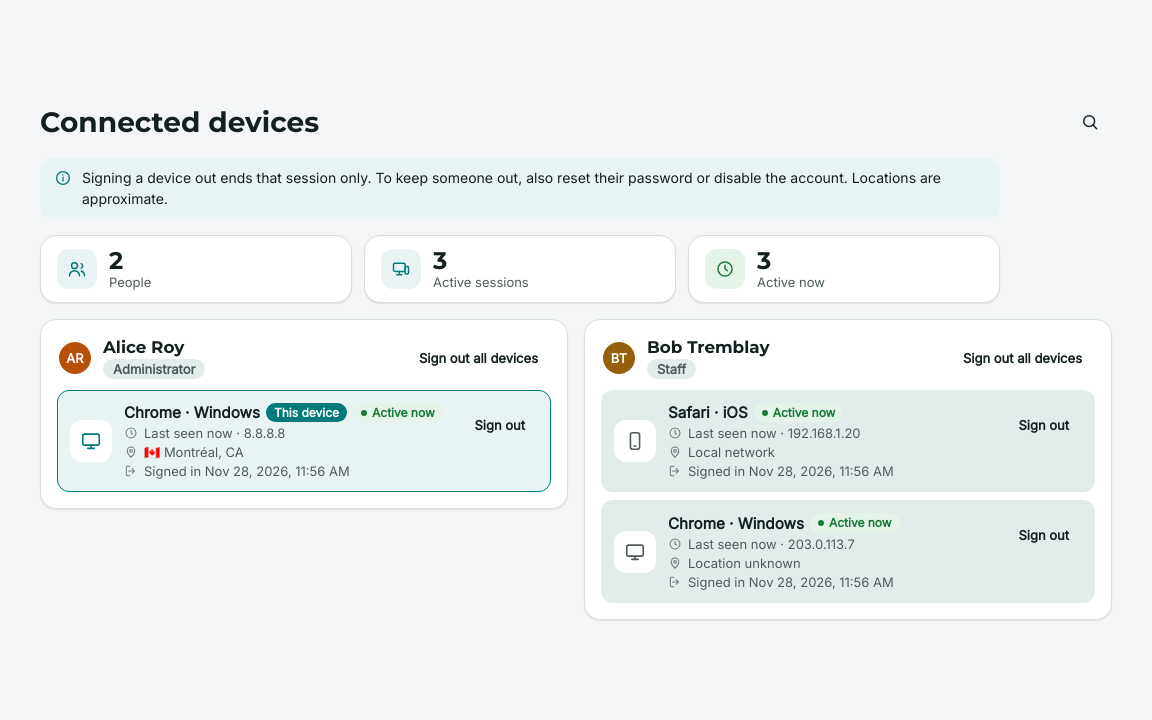
Test: Devices page › searches people and devices (name, browser, system, address, place)
The image size is (1152, 720).
Expected: the element "Alice Roy" is shown, [40,319,568,510]
Click the button named "Search" at point(1090, 122), box [1068,100,1112,144]
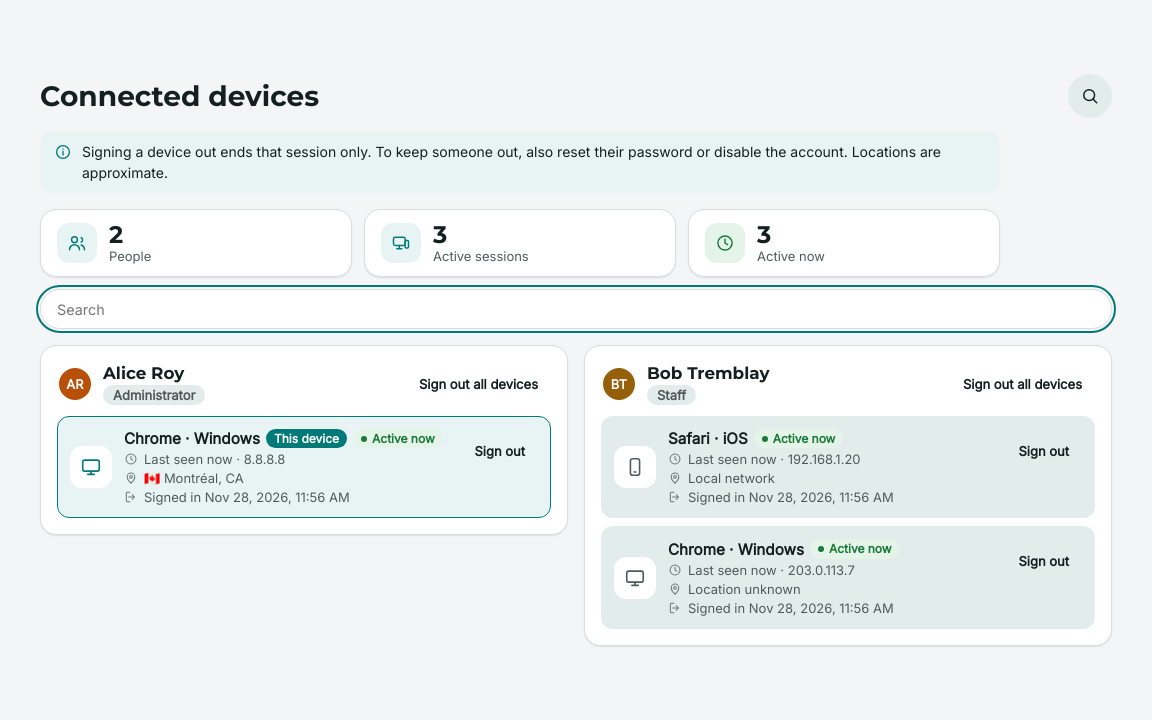
Type "bob" into the search field at point(576, 309), box [40,289,1112,329]
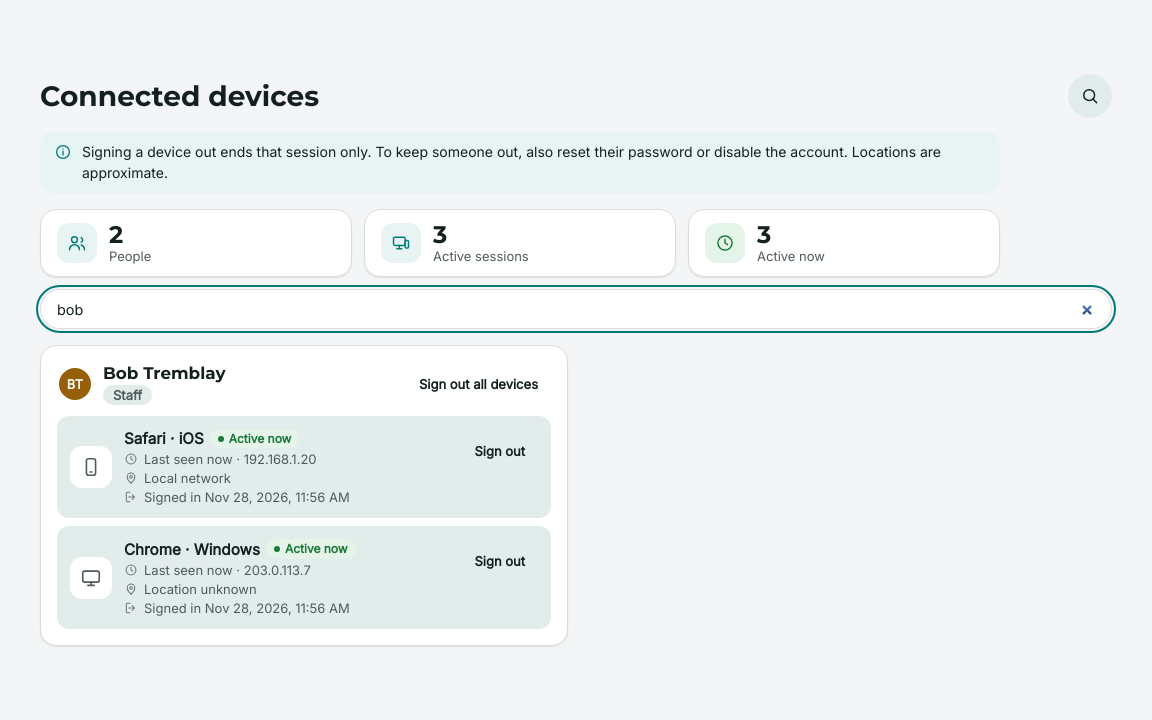
Now the text "Alice Roy" is gone
Replace the text in the search field with "safari" at point(576, 309), box [40,289,1112,329]
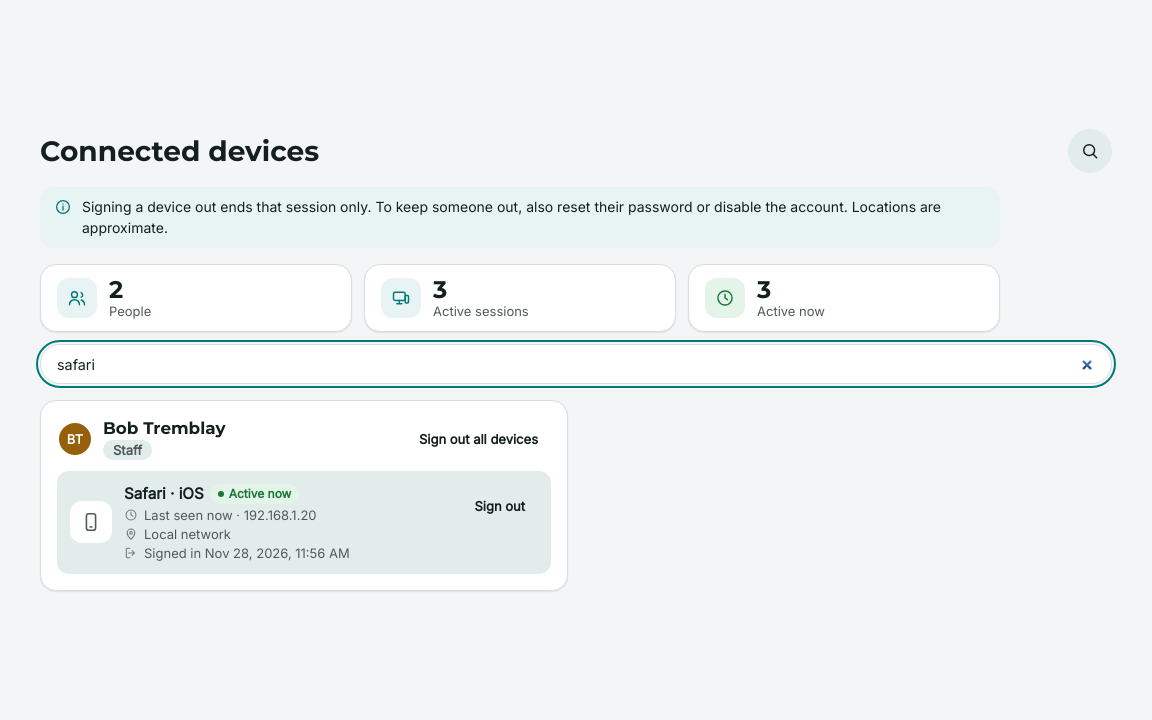
Replace the text in the search field with "montreal" at point(576, 364), box [40,344,1112,384]
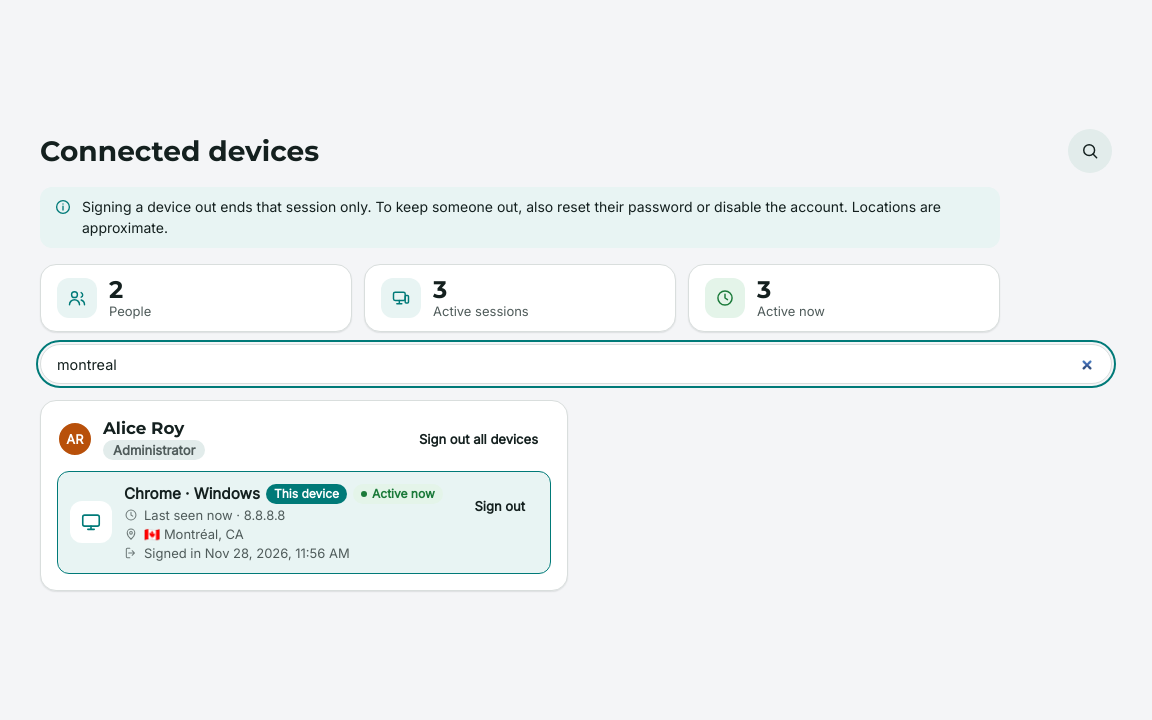
Now the element "Alice Roy" is shown, box [40,400,568,591]
Now the text "Bob Tremblay" is gone
Replace the text in the search field with "203.0.113" at point(576, 364), box [40,344,1112,384]
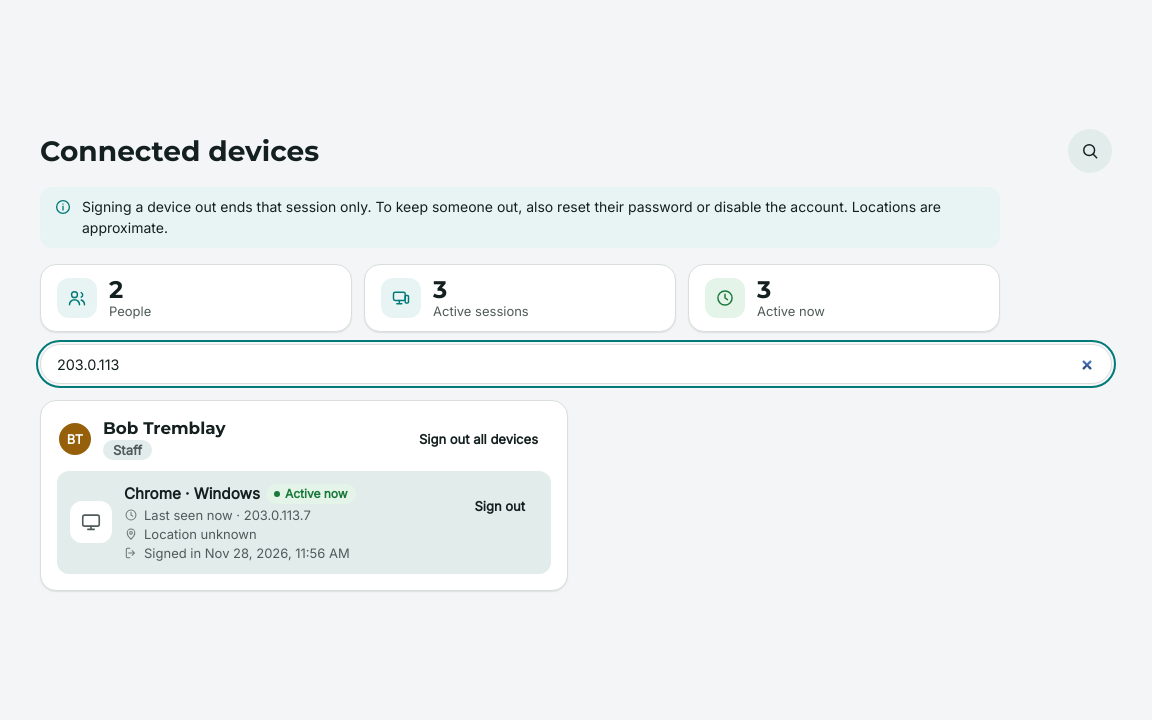
Replace the text in the search field with "no such thing" at point(576, 364), box [40,344,1112,384]
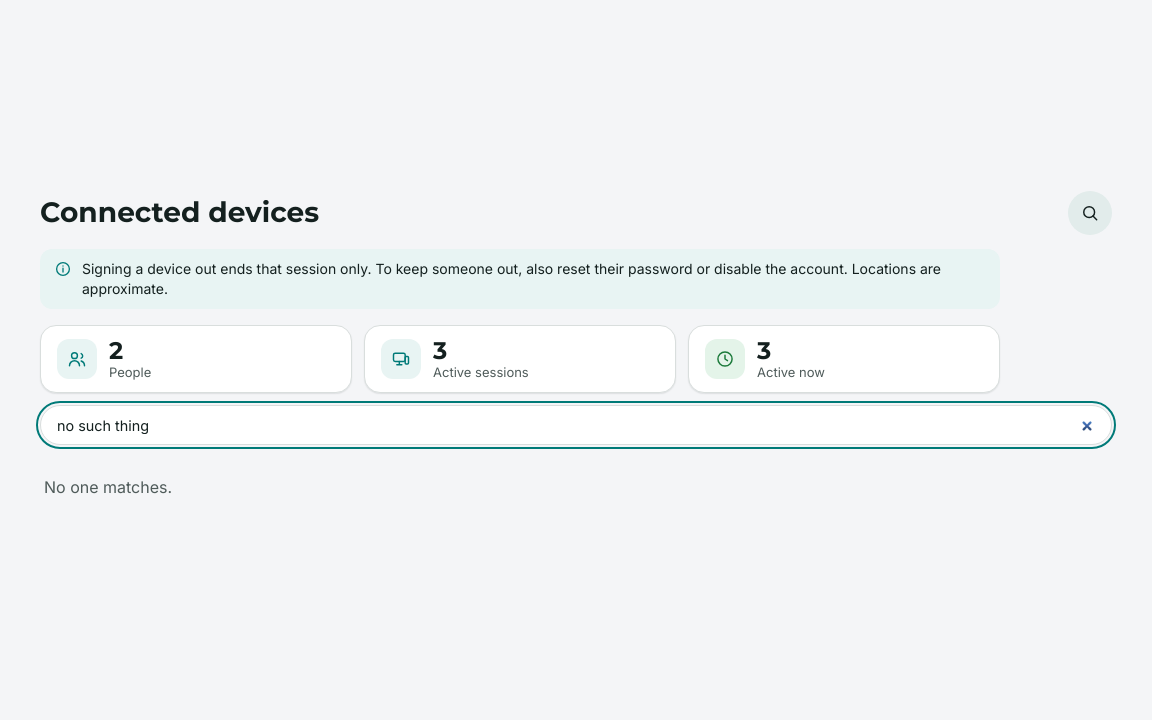
Now the text "No one matches." is shown, box [44,478,172,498]
